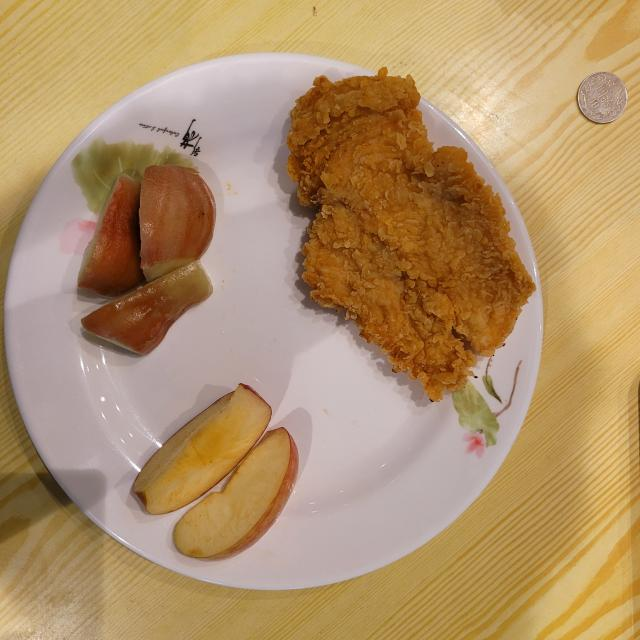apple -sliced-: (132, 384, 299, 560)
coin: (578, 71, 628, 124)
fried chicken cutlet: (288, 70, 535, 401)
